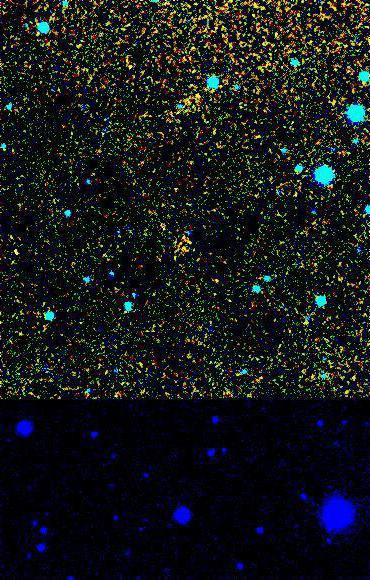star: (183, 79, 213, 109)
